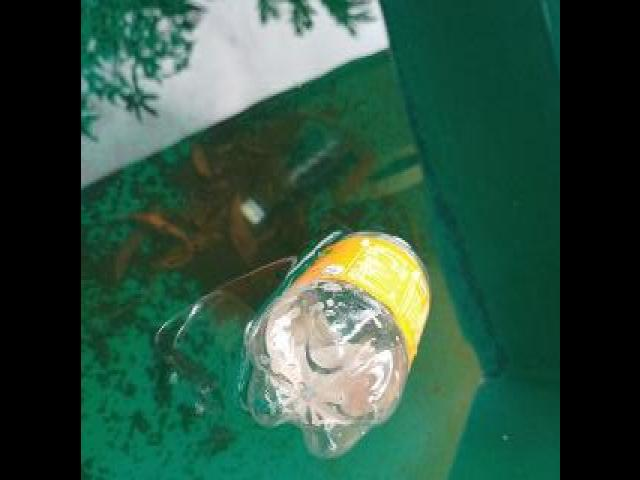Bottle: (233, 216, 441, 468)
